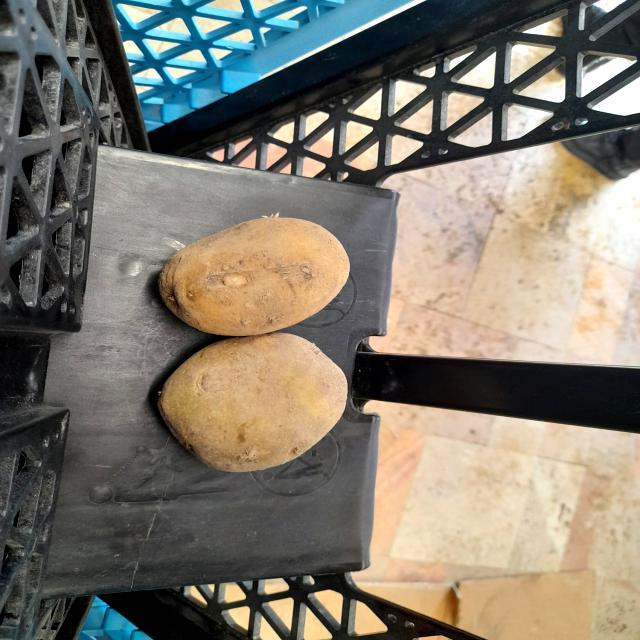potato: (139, 318, 400, 483), (150, 192, 362, 340)
